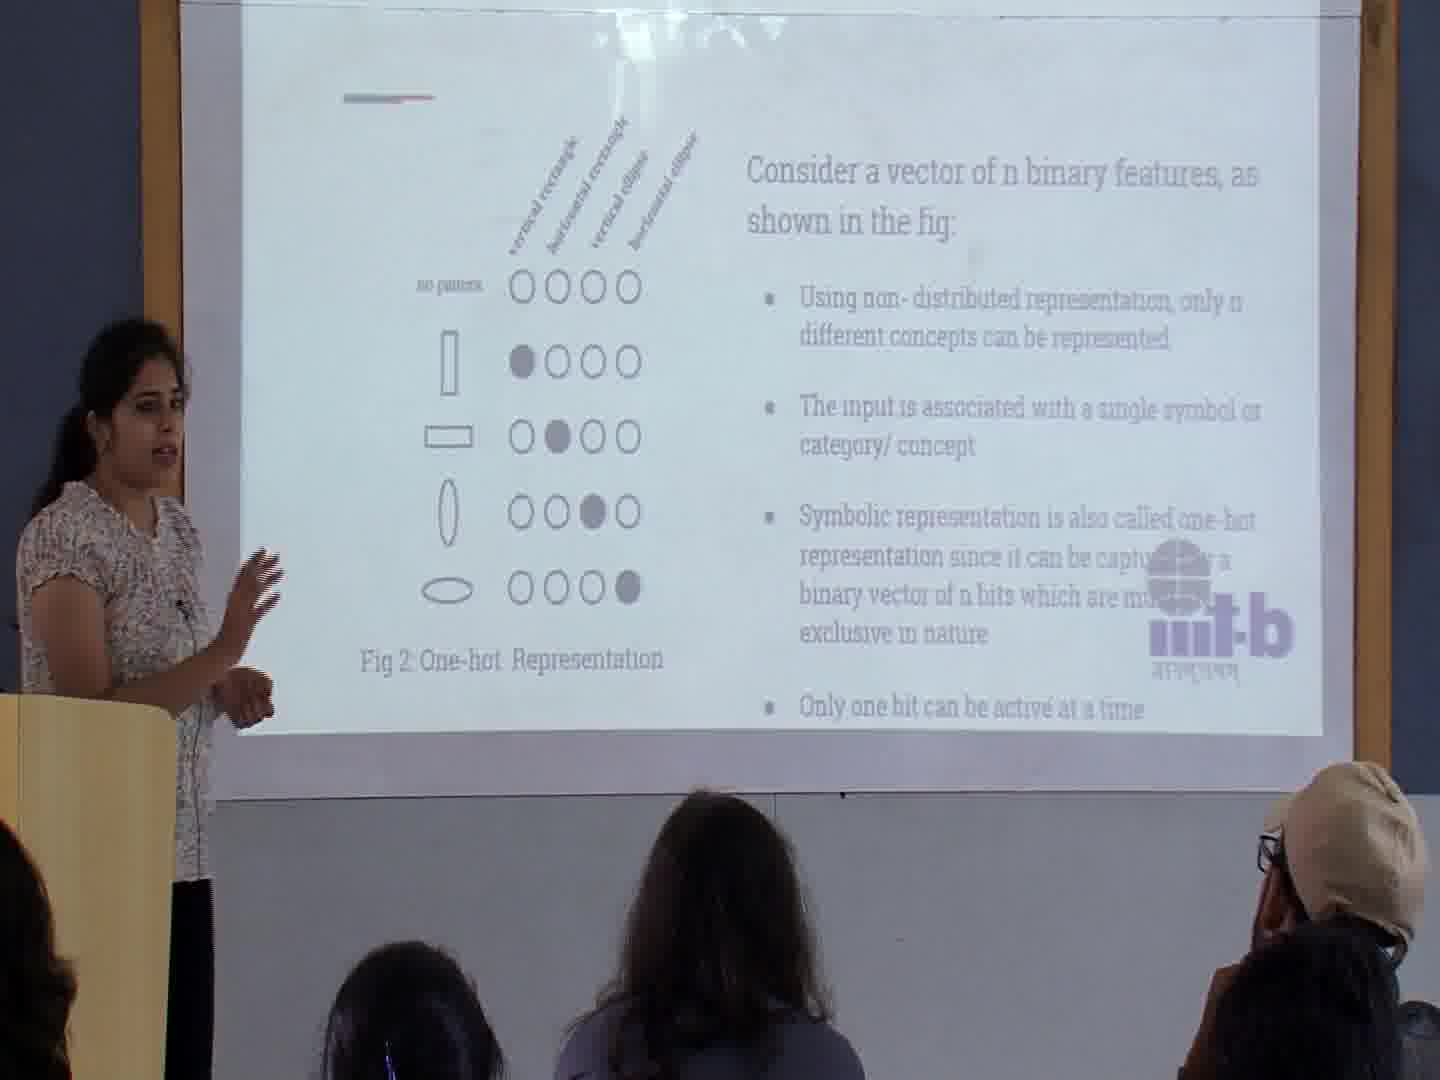slide: (238, 1, 1327, 733)
